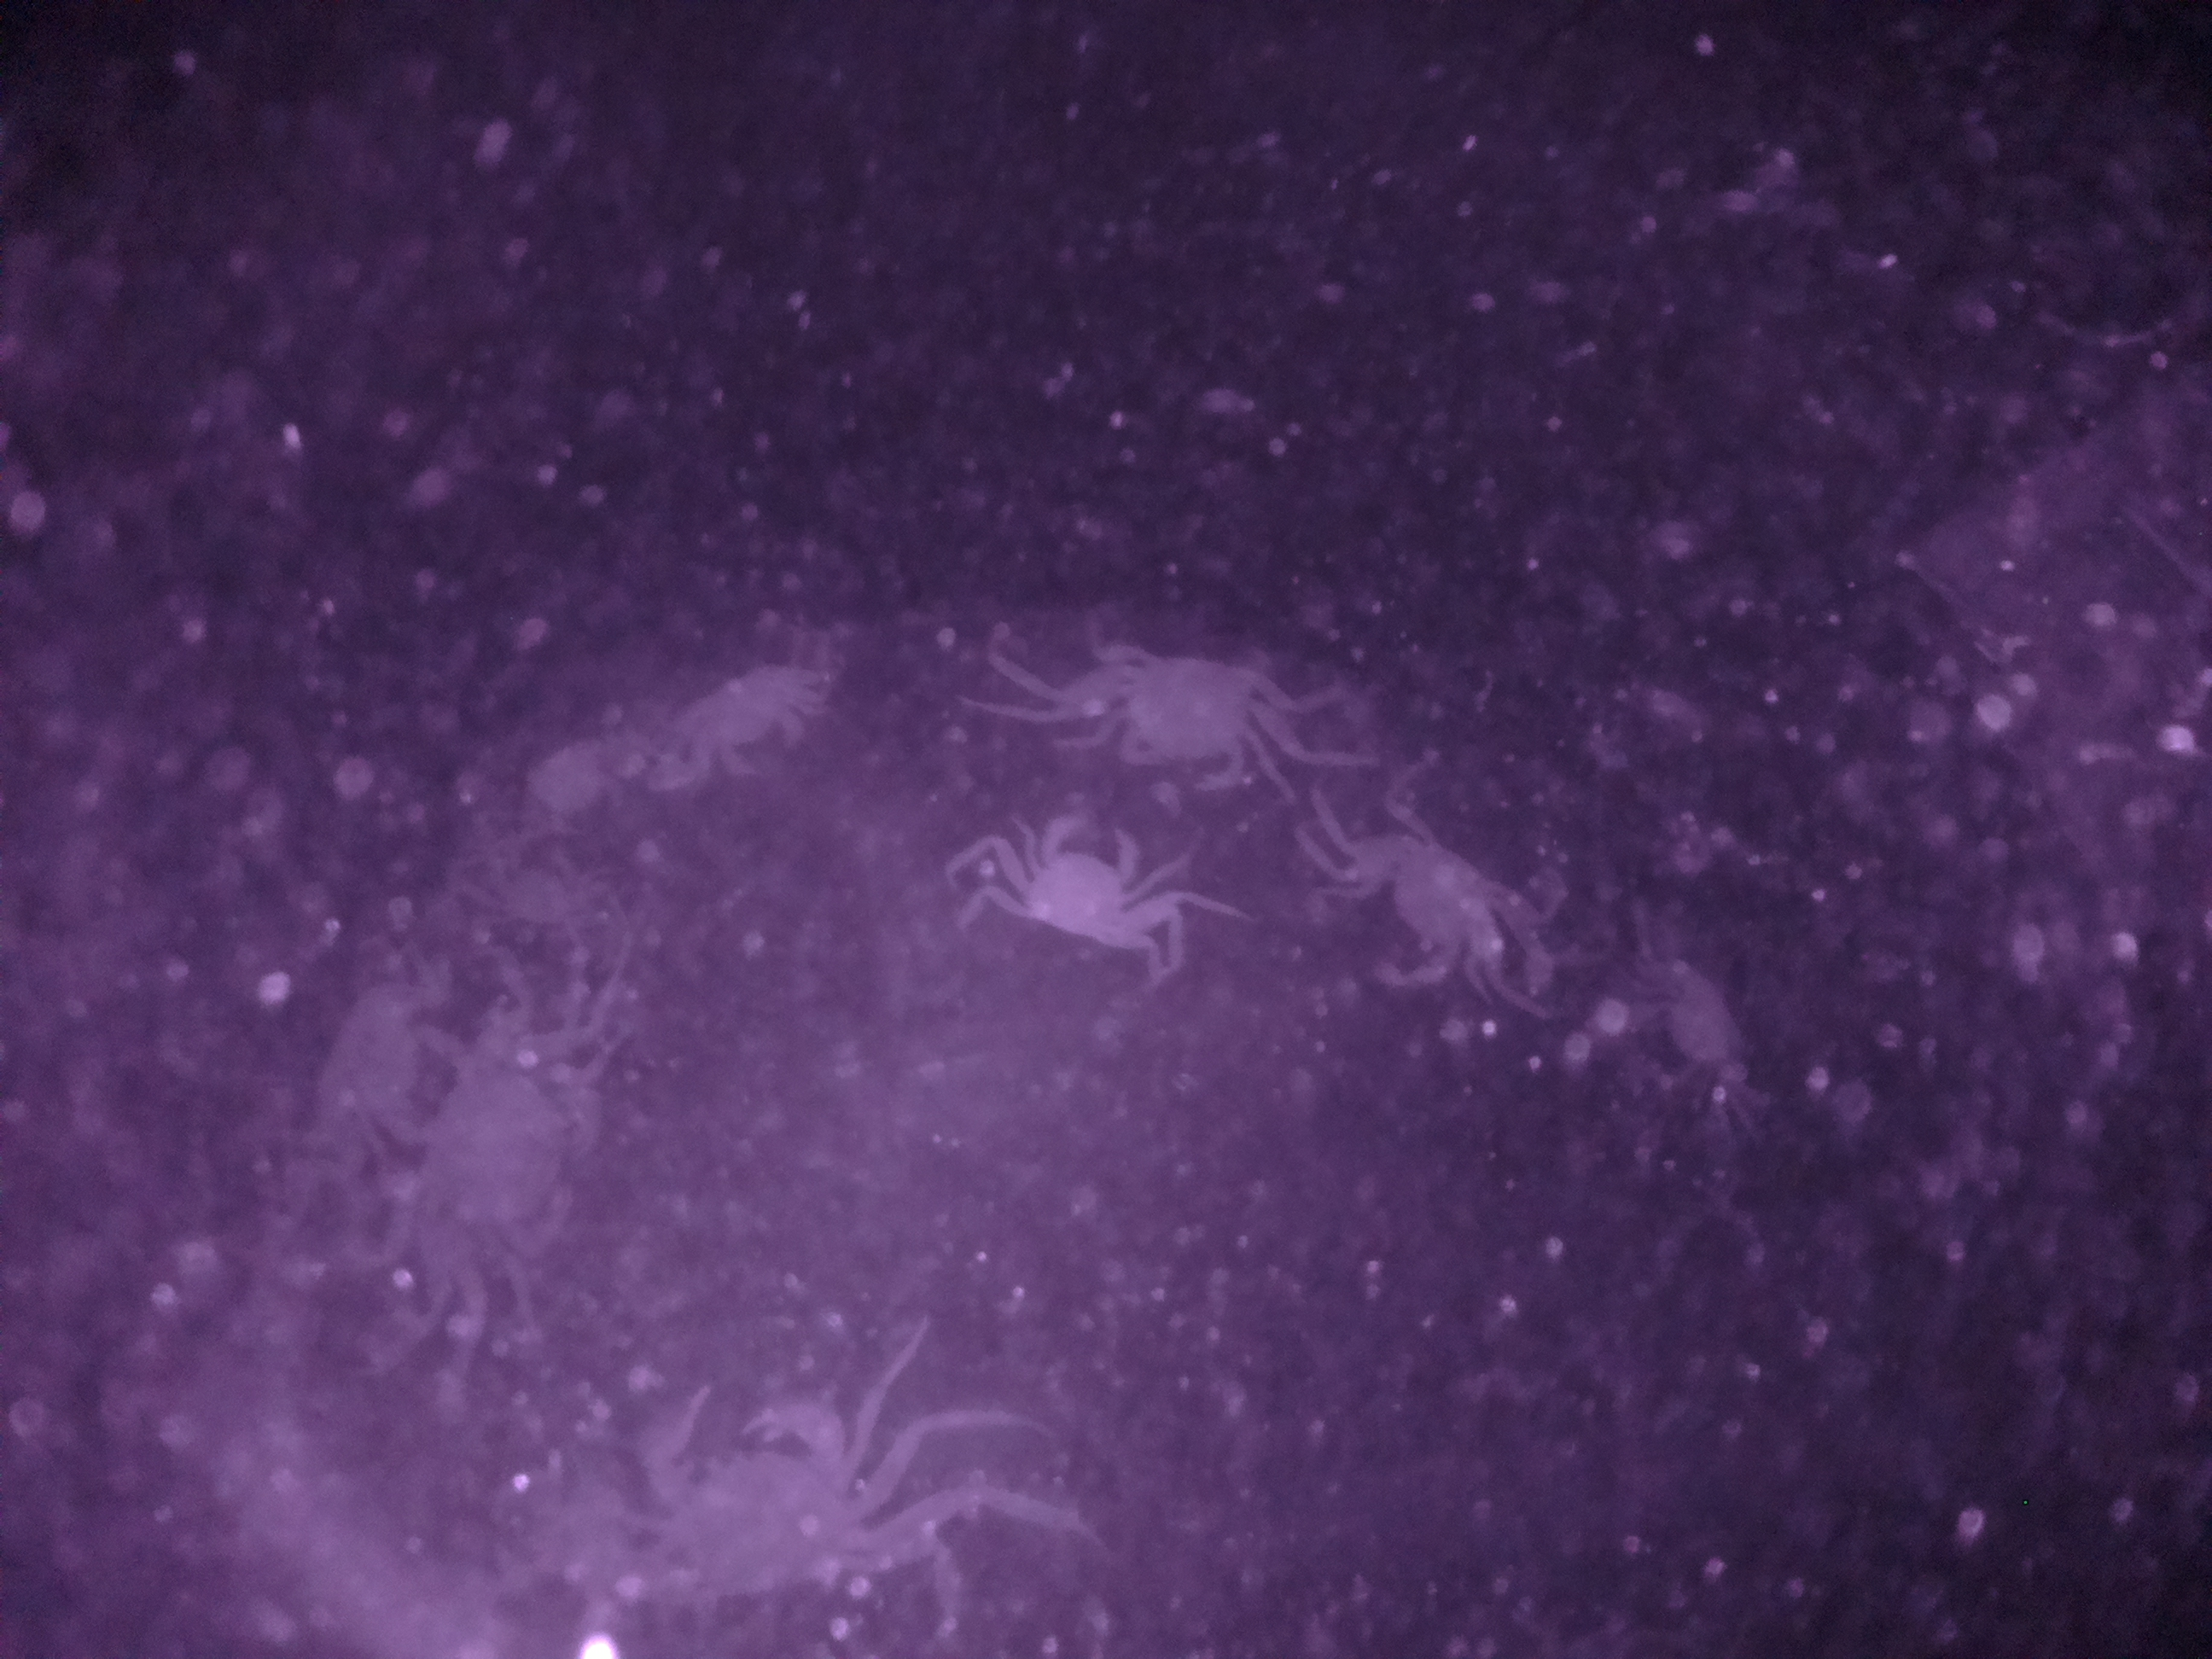Crab: (1318, 833, 1521, 1019), (1085, 620, 1294, 796), (993, 814, 1157, 953)
